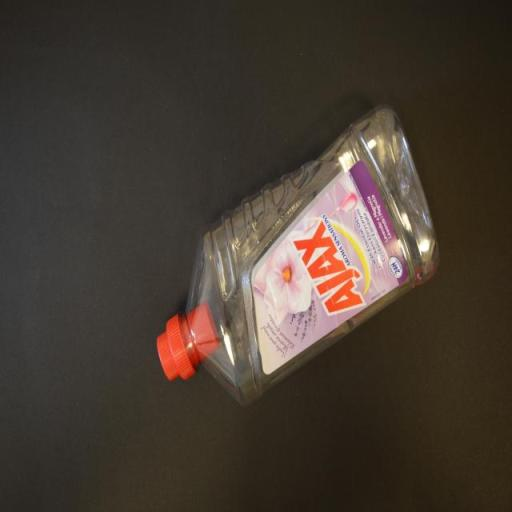plastic: (155, 102, 442, 402)
